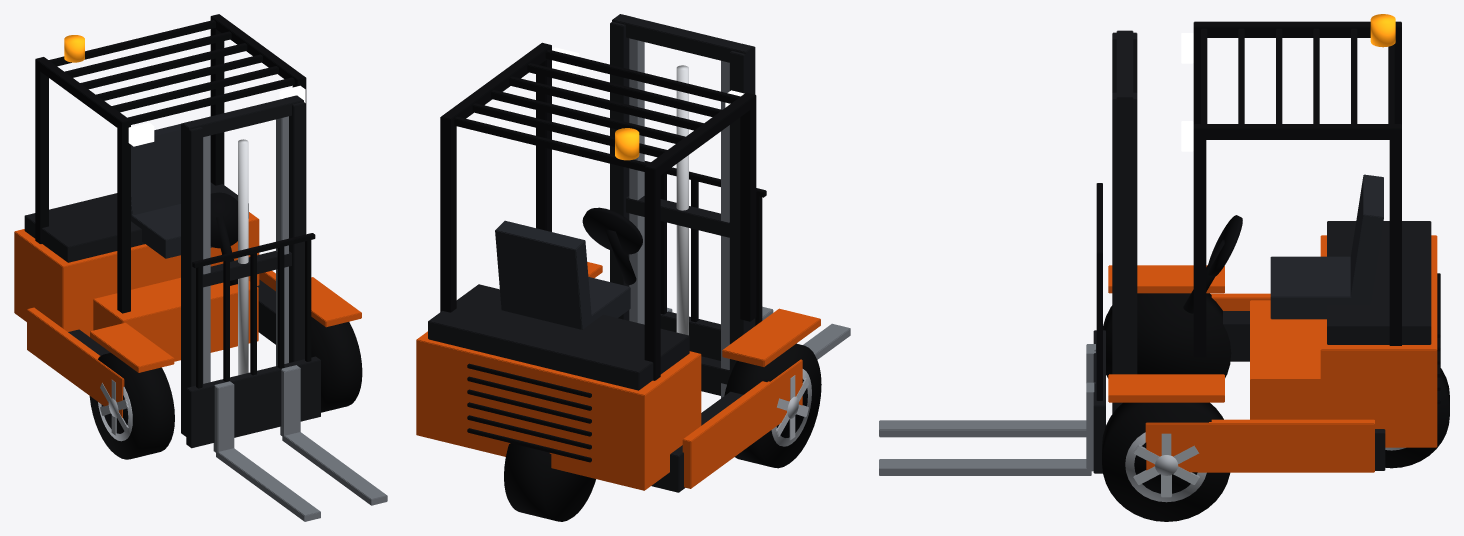
Rendered from forklift.glb.
The picture shows the model from 3 angles, left to right: view 1: azimuth 30°, elevation 25°; view 2: azimuth 150°, elevation 25°; view 3: azimuth 270°, elevation 25°; orthographic projection. The views are drawn at different scales.
Parts seen in each view (by area): view 1: Fork_Orange, Van_Trim, PC_Black, PC_Steel.001, Van_Trim.001, Van_Seat, PC_Black.002, Van_Tire.001, PC_Steel, Van_Tire, PC_Chrome, PC_Black.001 (+4 smaller); view 2: Fork_Orange, PC_Black, Van_Trim, Van_Seat, PC_Steel, Van_Tire.002, Van_Tire.001, PC_Black.002, PC_Chrome, PC_Black.001, Van_Trim.001, PC_Steel.001 (+3 smaller); view 3: Fork_Orange, Van_Trim, PC_Black, PC_Steel.001, Van_Seat, Van_Tire.001, Van_Tire, PC_Black.002, Van_Tire.002, Van_Rim, Van_Rim.001, PC_Black.001 (+4 smaller).
Part boxes in pixels (box(x1,y1,x2,y2)): Fork_Orange: box(14, 212, 361, 417); Van_Trim: box(24, 95, 305, 436); PC_Black: box(35, 14, 306, 313); PC_Steel.001: box(213, 365, 387, 521); Van_Trim.001: box(186, 356, 320, 448); Van_Seat: box(131, 124, 212, 258); PC_Black.002: box(192, 233, 315, 388); Van_Tire.001: box(89, 353, 174, 459); PC_Steel: box(203, 116, 288, 383); Van_Tire: box(311, 317, 362, 412); PC_Chrome: box(238, 139, 248, 375); PC_Black.001: box(210, 192, 237, 285); Fork_Orange: box(416, 262, 820, 490); PC_Black: box(440, 42, 756, 462); Van_Trim: box(428, 14, 755, 492); Van_Seat: box(495, 220, 630, 329); PC_Steel: box(629, 38, 729, 398); Van_Tire.002: box(504, 443, 595, 521); Van_Tire.001: box(724, 343, 821, 468); PC_Black.002: box(644, 161, 766, 325); PC_Chrome: box(676, 65, 688, 335); PC_Black.001: box(582, 207, 642, 284); Van_Trim.001: box(660, 311, 720, 395); PC_Steel.001: box(667, 306, 850, 359); Fork_Orange: box(1108, 235, 1437, 472); Van_Trim: box(1112, 30, 1431, 470); PC_Black: box(1193, 21, 1440, 404); PC_Steel.001: box(879, 344, 1095, 475); Van_Seat: box(1270, 174, 1383, 319); Van_Tire.001: box(1103, 293, 1231, 378); Van_Tire: box(1102, 402, 1230, 521); PC_Black.002: box(1096, 183, 1102, 400); Van_Tire.002: box(1385, 368, 1449, 468); Van_Rim: box(1125, 432, 1206, 502); Van_Rim.001: box(1133, 433, 1199, 497); PC_Black.001: box(1183, 215, 1242, 313).
Size of the model in its own units: 1.49 by 2.14 by 2.74.
